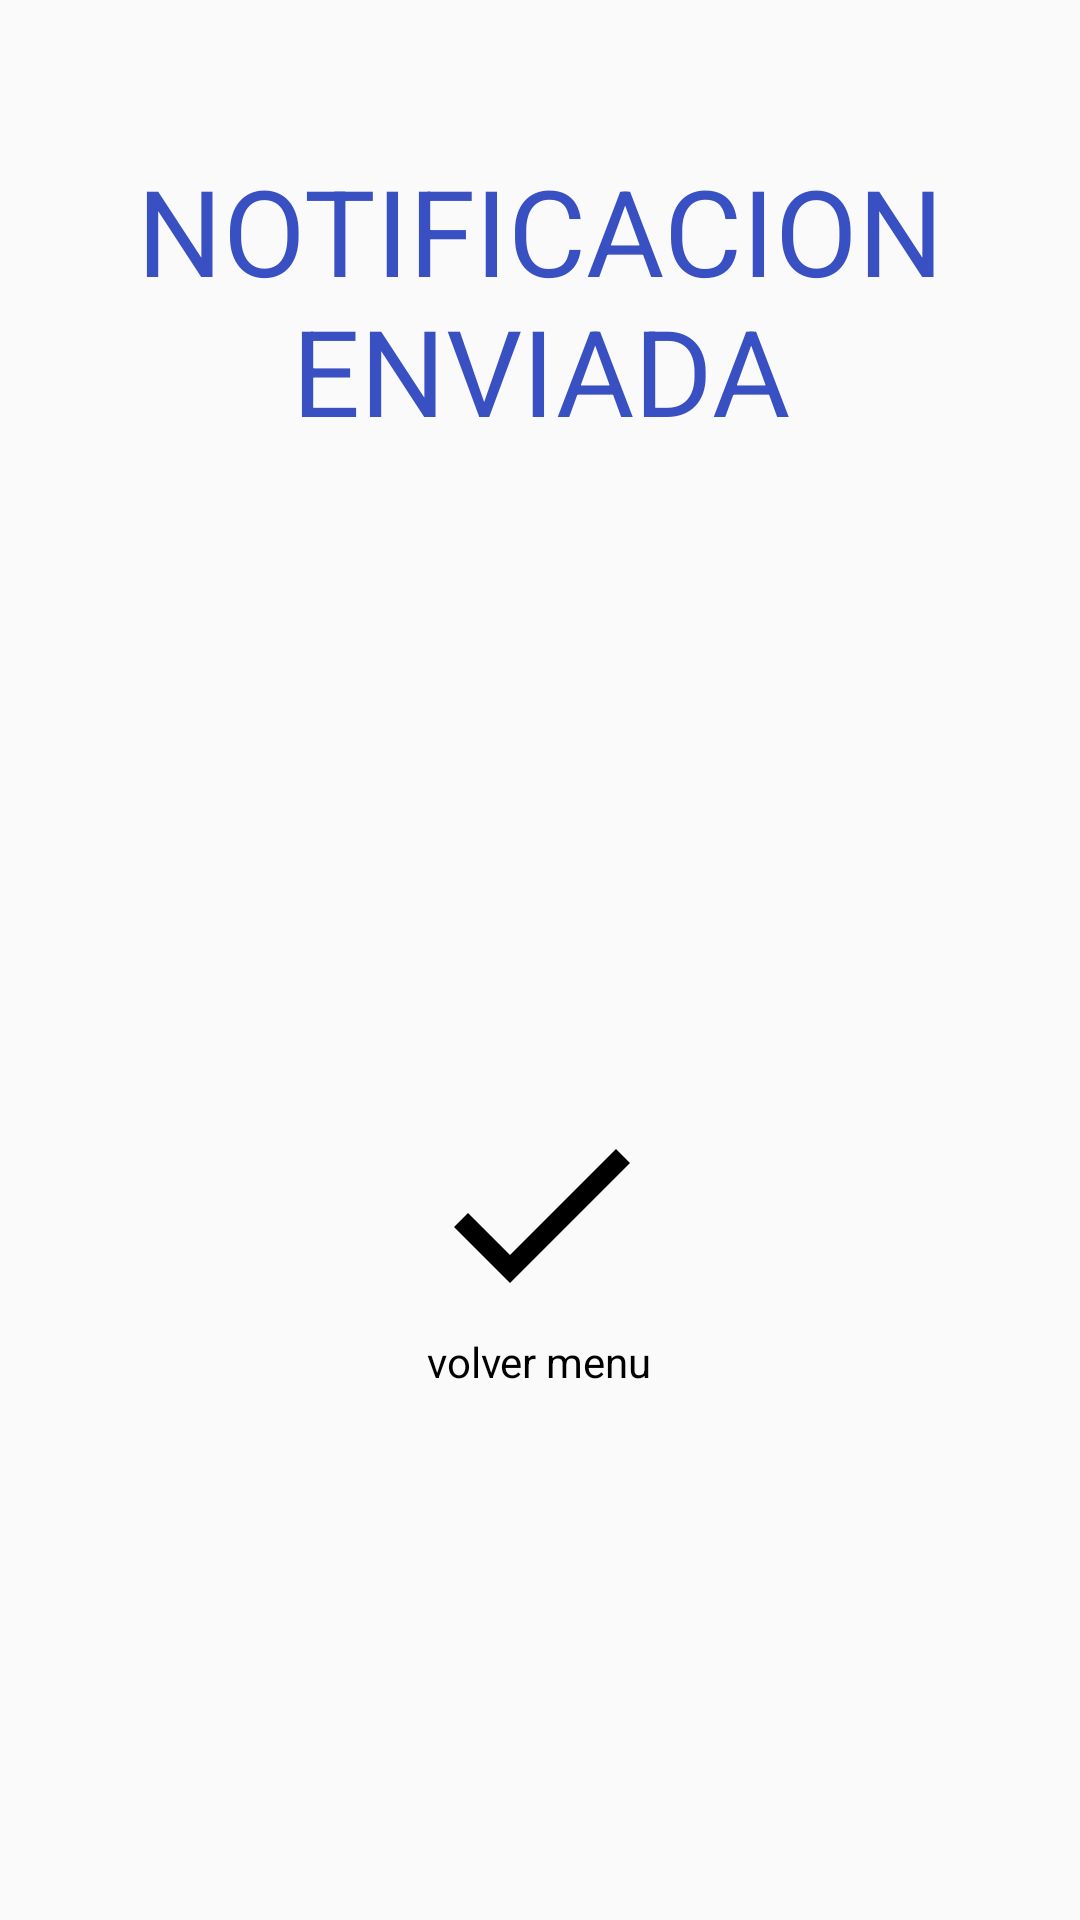

Where icons sit on this 1080px x 1920px app screen, as bbox(x1, y1, x2, y2):
hecho: bbox(454, 1149, 630, 1283)
